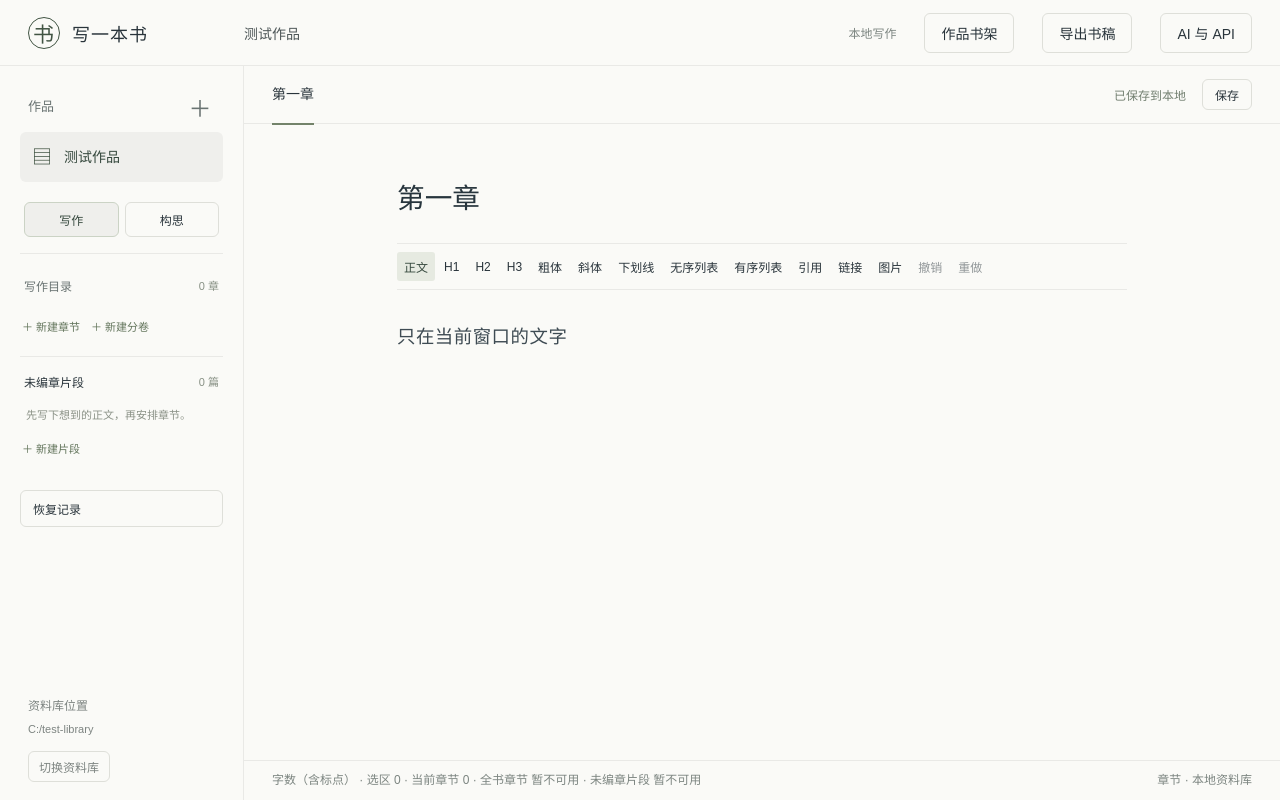
Test: does not promise retained content when recovery storage itself fails, and lets the author return to editing
The image size is (1280, 800).
Clear the field with id "chapter-body" at (482, 338), box [397, 328, 567, 348]
Wait 20 ms
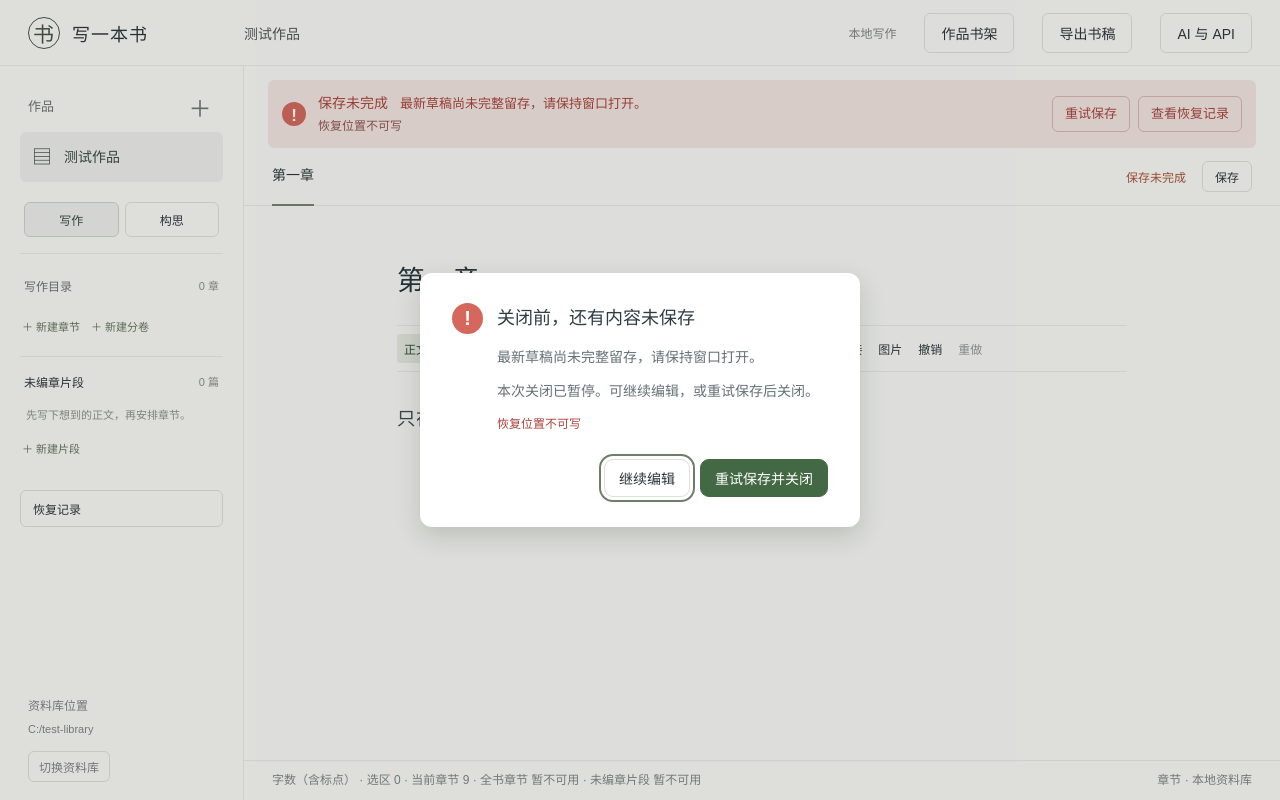
Expected: the dialog shows "最新草稿尚未完整留存", [497, 349, 763, 365]
Click the button "继续编辑" at (647, 478), box [604, 459, 690, 497]
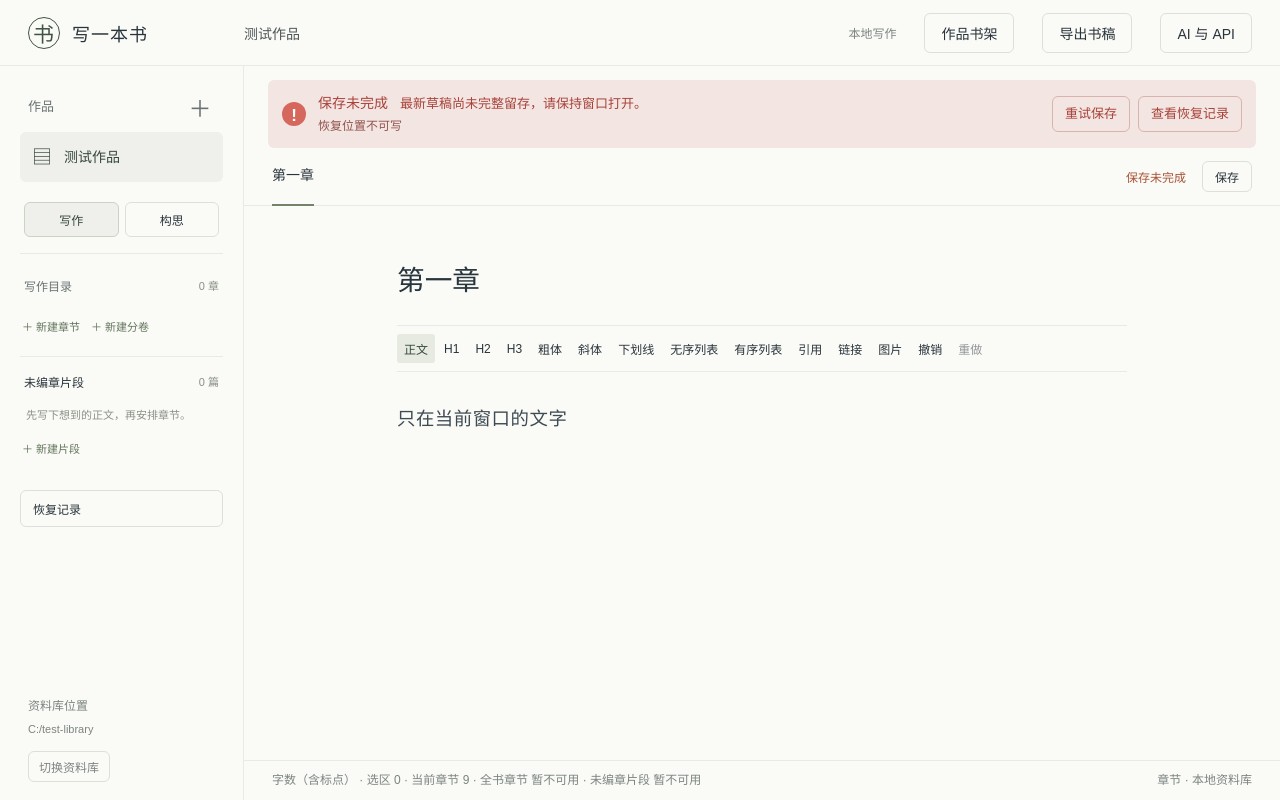
Expected: the message with class "save-failure" shows "恢复位置不可写", [318, 119, 402, 133]
Expected: the dialog is gone
